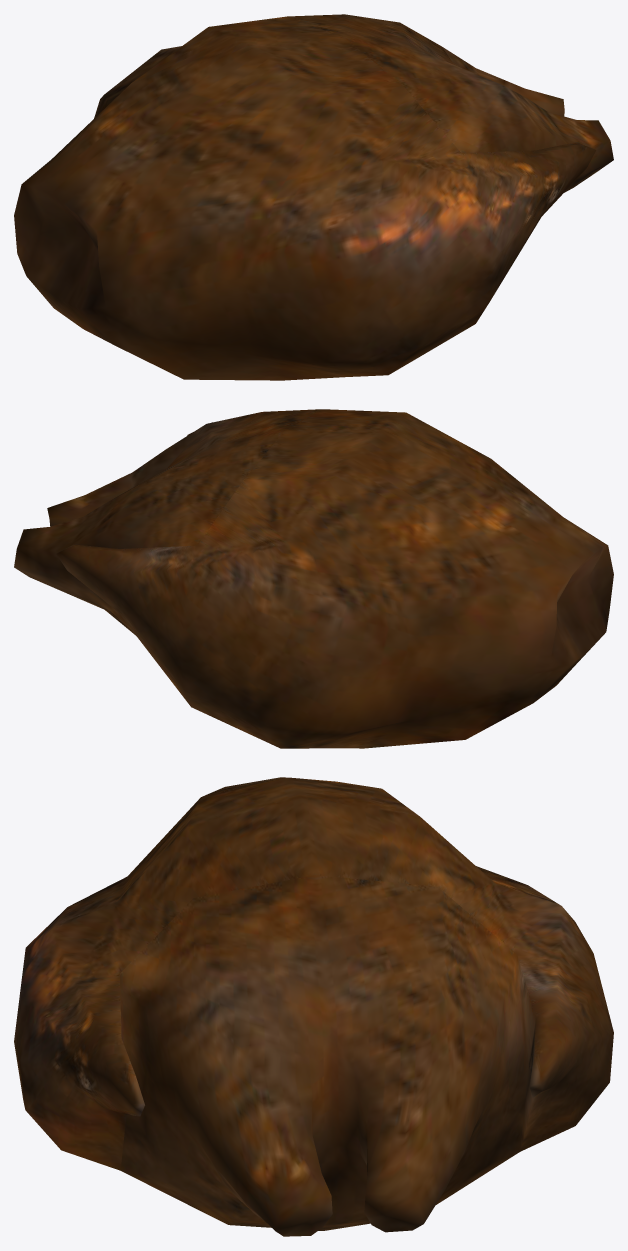
File: Turkey_vi.fbx
3 renders of one model, top to bottom at view 1: azimuth 30°, elevation 25°; view 2: azimuth 150°, elevation 25°; view 3: azimuth 270°, elevation 25°, orthographic. The views are drawn at different scales.
Visible parts, largest first — view 1: Turkey; view 2: Turkey; view 3: Turkey.
Part boxes in pixels (<box>): Turkey: <box>14,14,613,380</box>; Turkey: <box>14,409,613,748</box>; Turkey: <box>14,777,613,1236</box>.
Size of the model in its own units: 0.00519 by 0.00263 by 0.00395.
1 material, 1 textured.
